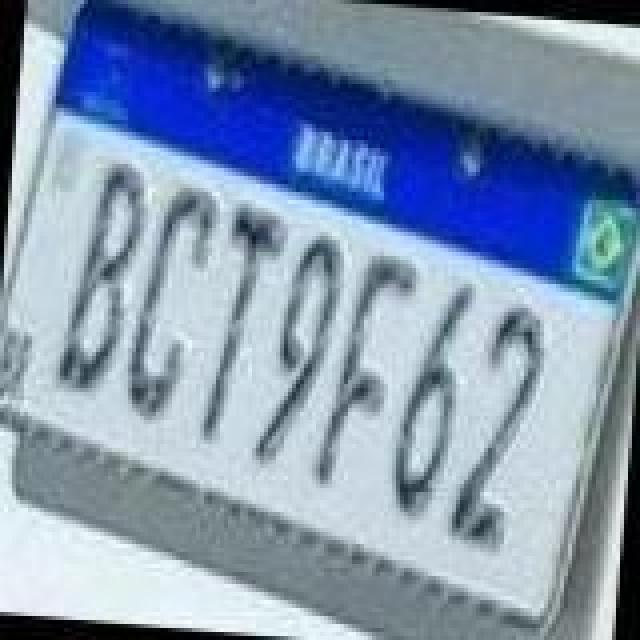2: (450, 298, 558, 558)
6: (388, 274, 484, 526)
9: (248, 230, 352, 474)
B: (54, 158, 154, 394)
C: (124, 182, 228, 426)
F: (312, 246, 424, 490)
T: (198, 200, 290, 448)
